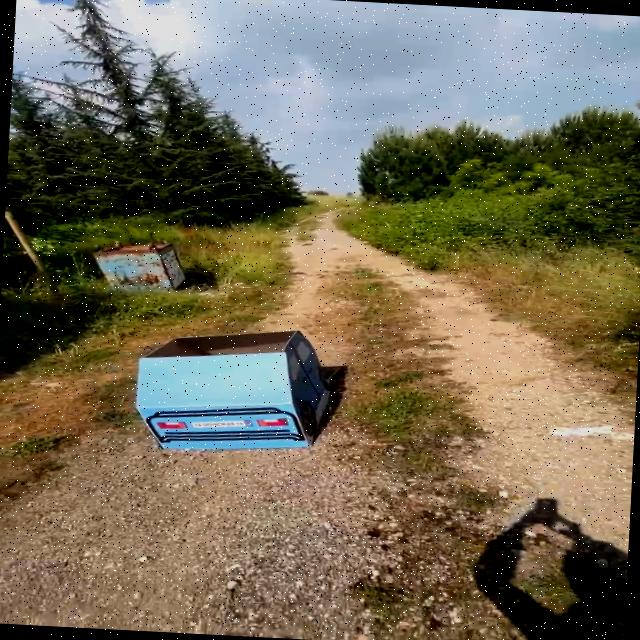blue_car: (119, 311, 355, 469)
